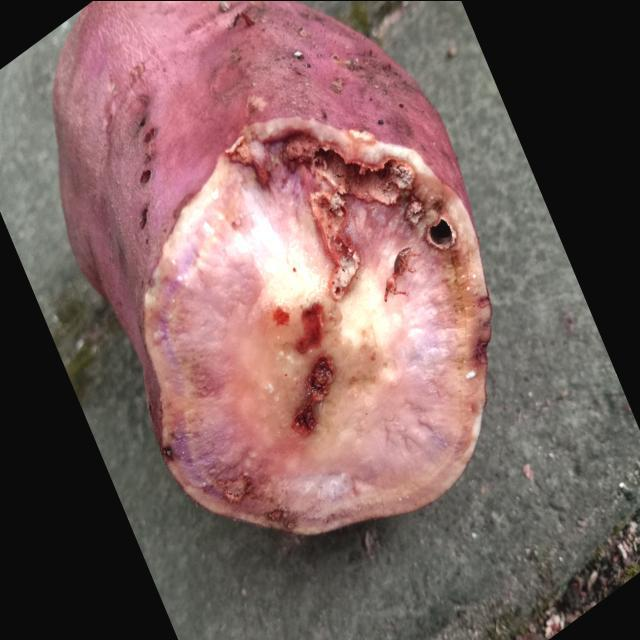Sick Sweet Potato_Tuber Rot: (144, 117, 491, 533)
